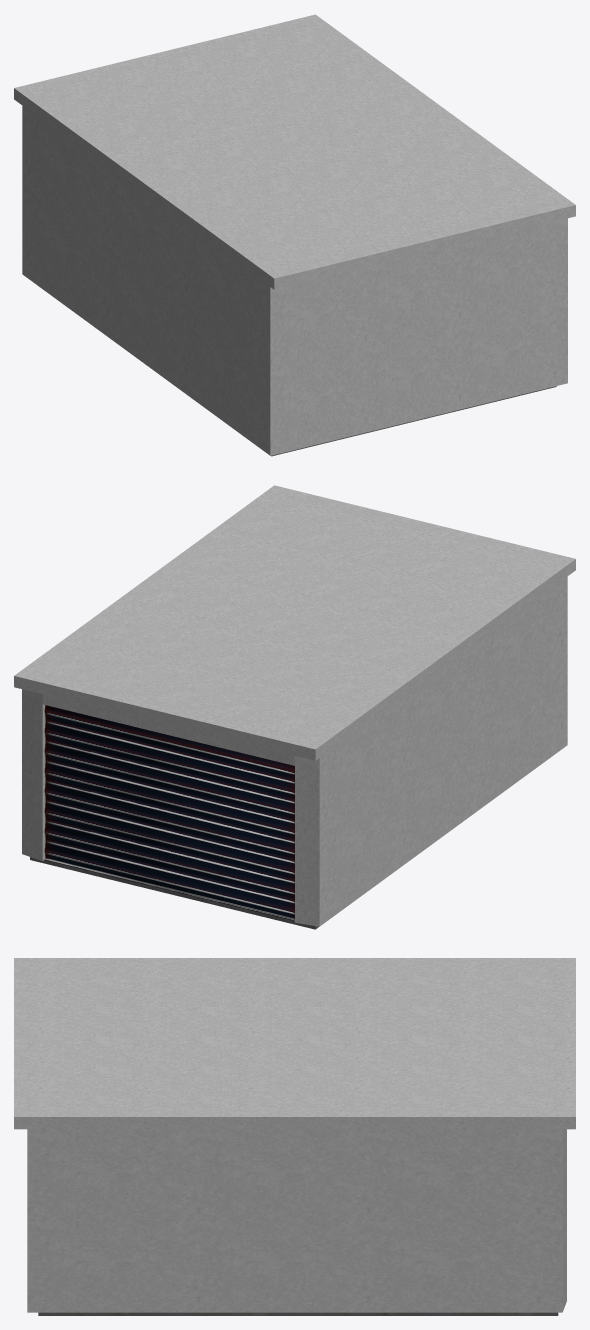
File: zdanie 1.fbx
3 renders of one model, top to bottom at view 1: azimuth 30°, elevation 25°; view 2: azimuth 150°, elevation 25°; view 3: azimuth 270°, elevation 25°, orthographic. The views are drawn at different scales.
Parts seen in each view (by area): view 1: Plane.001, Plane.002; view 2: Plane.002, Plane.001, Plane.010, Plane; view 3: Plane.001, Plane.002, Plane.
Boxes of the visible parts, <box> form: Plane.001: <box>22,106,567,455</box>; Plane.002: <box>14,14,575,289</box>; Plane.002: <box>14,485,575,760</box>; Plane.001: <box>22,576,567,926</box>; Plane.010: <box>44,705,294,920</box>; Plane: <box>30,857,318,929</box>; Plane.001: <box>27,1129,566,1312</box>; Plane.002: <box>14,958,575,1129</box>; Plane: <box>38,1312,558,1315</box>.
Size of the model in its own units: 252 by 150 by 377.
